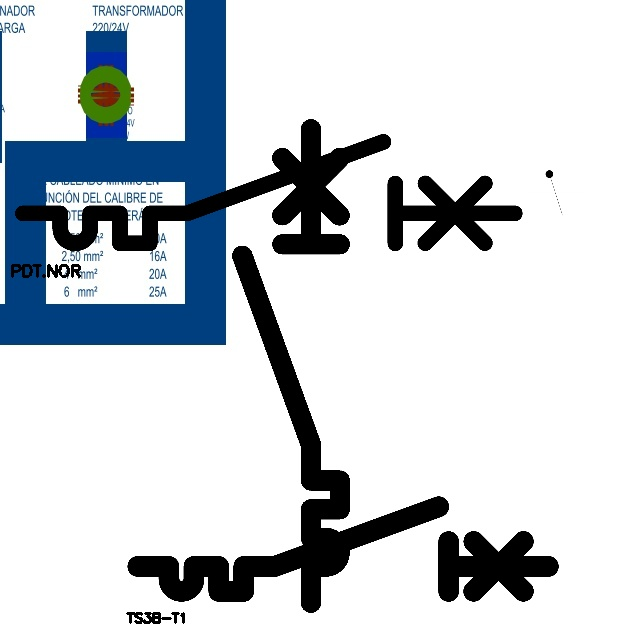interruptor_termomagnetico: (10, 129, 527, 256), (230, 117, 352, 615), (127, 496, 559, 602)
